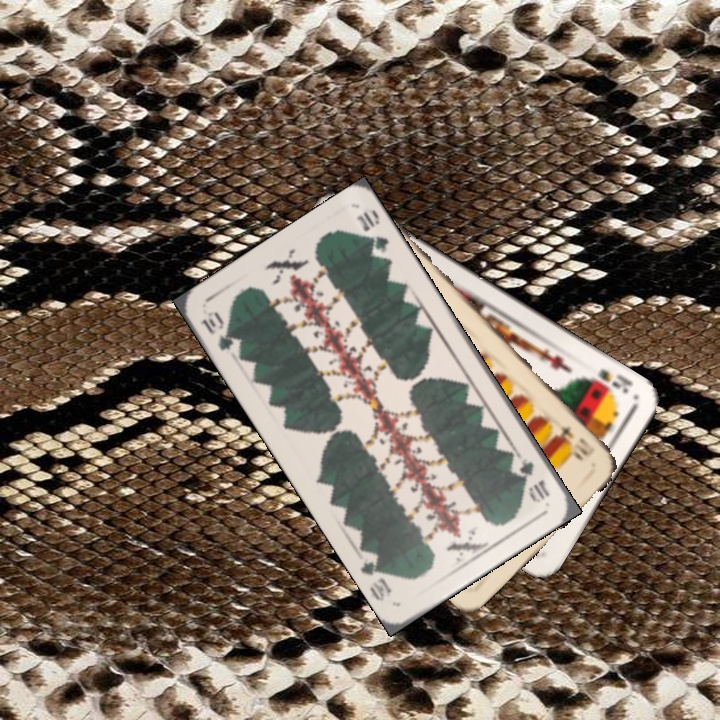E10: (556, 421, 597, 459)
G10: (515, 454, 553, 506), (198, 307, 237, 354)
SK: (594, 364, 635, 396)
